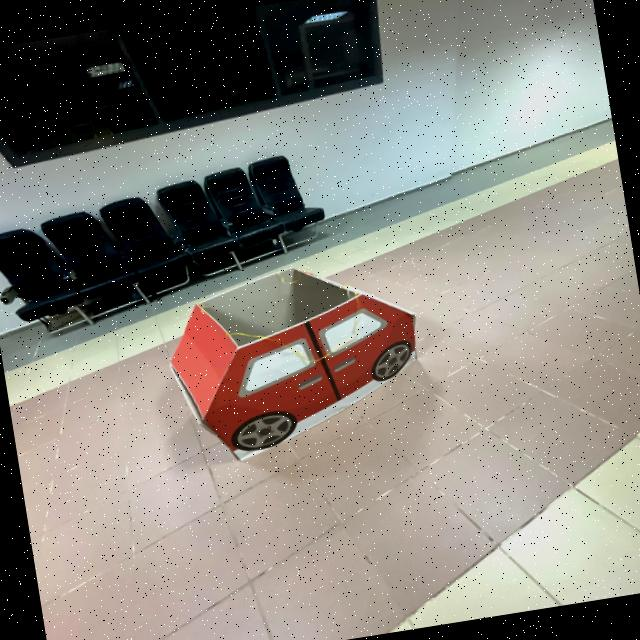red_car: (147, 240, 462, 481)
